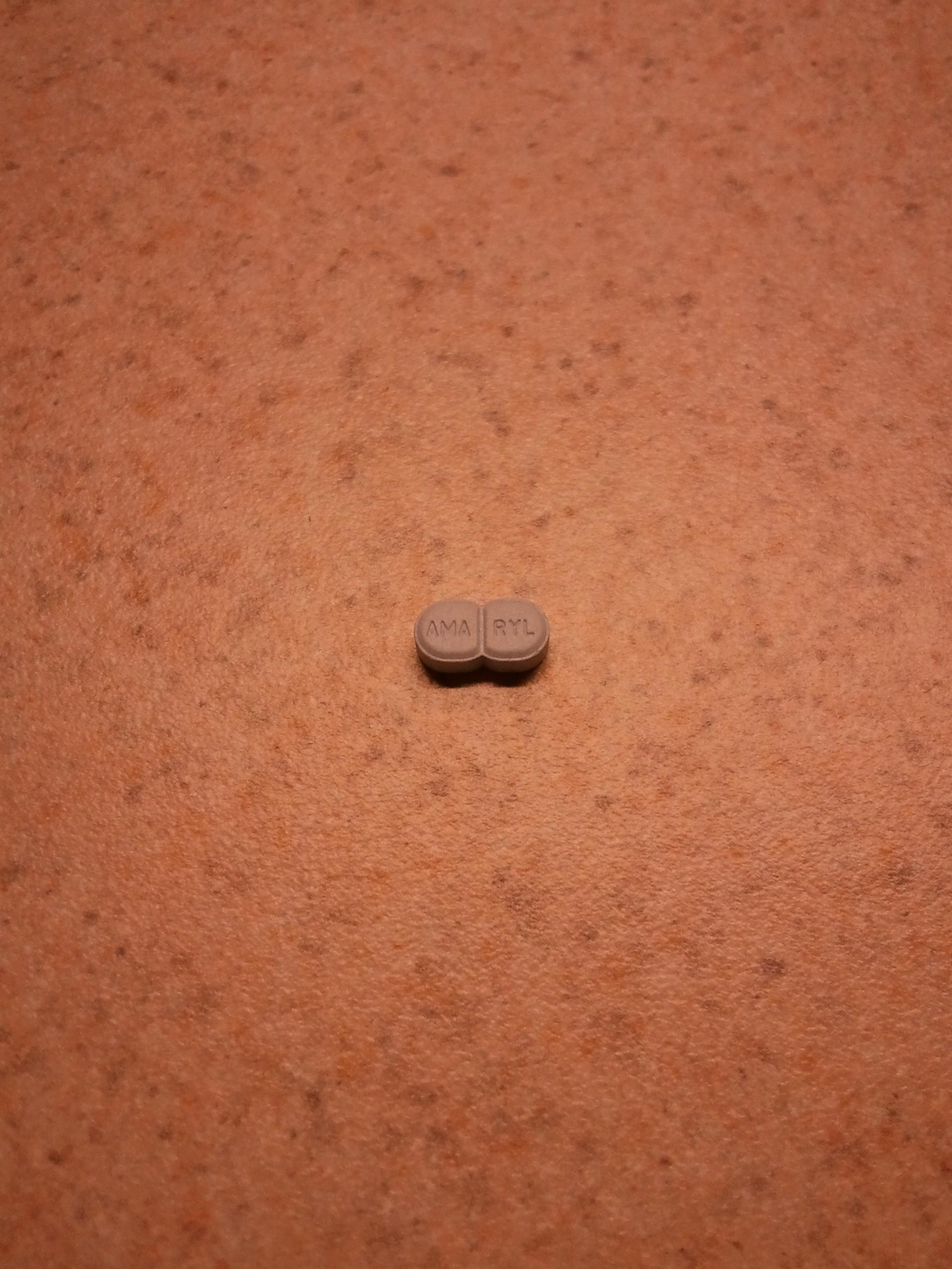Pill: (397, 573, 579, 707)
